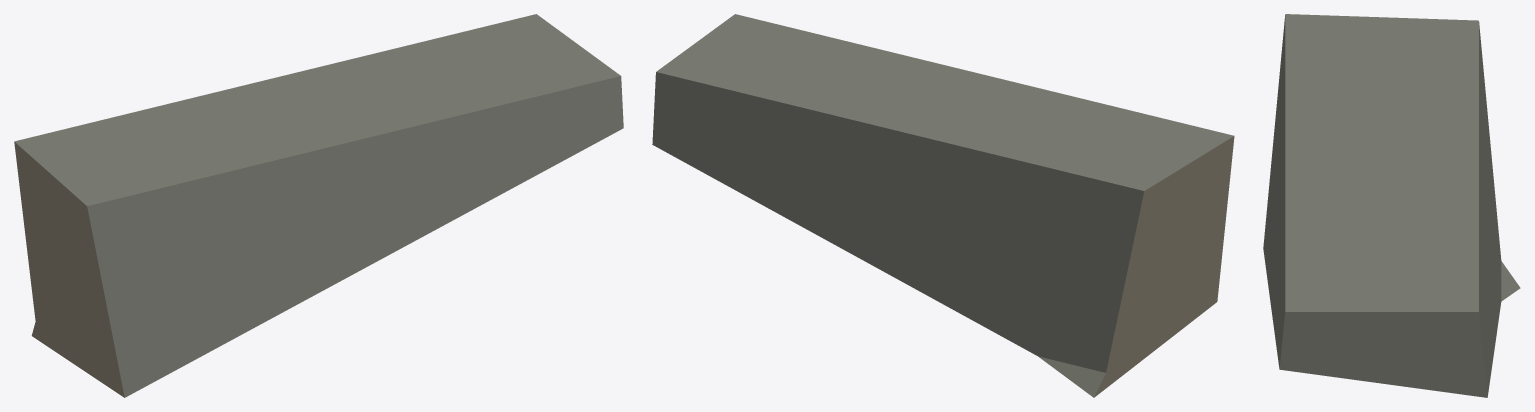
The picture shows the model from 3 angles, left to right: view 1: azimuth 30°, elevation 25°; view 2: azimuth 150°, elevation 25°; view 3: azimuth 270°, elevation 25°; orthographic projection. The views are drawn at different scales.
Parts seen in each view (by area): view 1: concreto_quebra_6; view 2: concreto_quebra_6; view 3: concreto_quebra_6.
Part boxes in pixels (box(x1,y1,x2,y2)): concreto_quebra_6: box(14, 14, 623, 397); concreto_quebra_6: box(652, 14, 1234, 397); concreto_quebra_6: box(1263, 14, 1520, 397).
Size of the model in its own units: 0.9464 by 0.3668 by 0.3454.
1 material, 1 textured.
